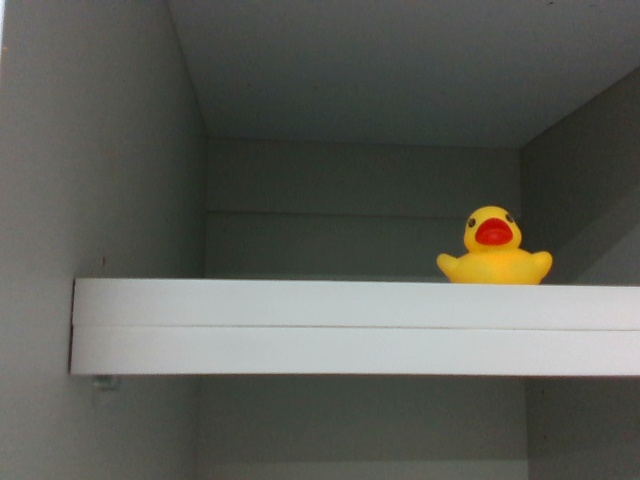duck: (430, 202, 557, 289)
